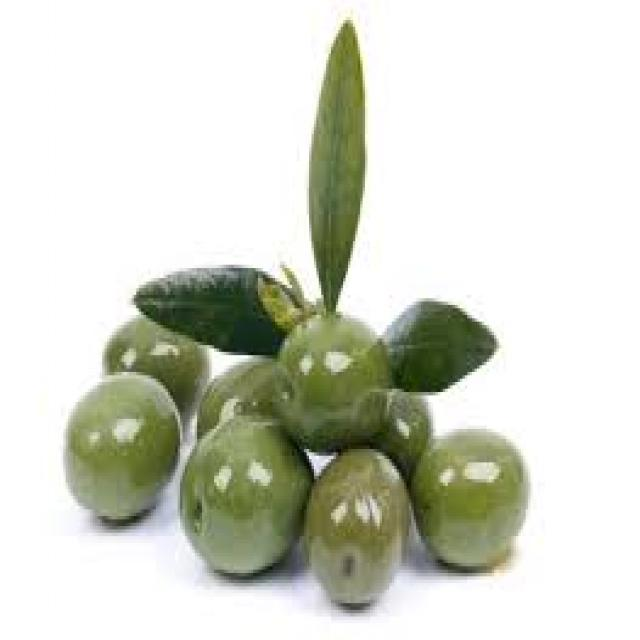organic waste: (306, 10, 368, 328), (178, 419, 306, 573), (59, 368, 182, 522), (304, 442, 414, 606), (411, 436, 526, 576), (272, 308, 387, 446), (129, 268, 304, 352), (372, 295, 497, 402), (100, 312, 209, 412), (190, 358, 297, 446), (382, 388, 433, 472)
